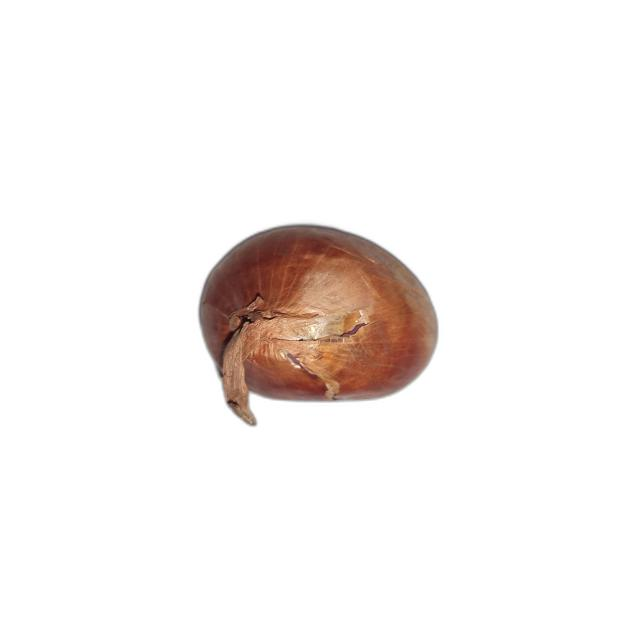onion: (201, 226, 439, 423)
